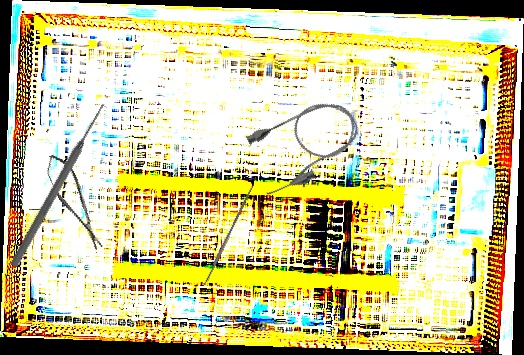Cannula: (239, 88, 370, 202)
Micro Scissor: (40, 149, 109, 256)
Pusher: (8, 101, 109, 269)
Scalpel Handle: (203, 183, 255, 285)
